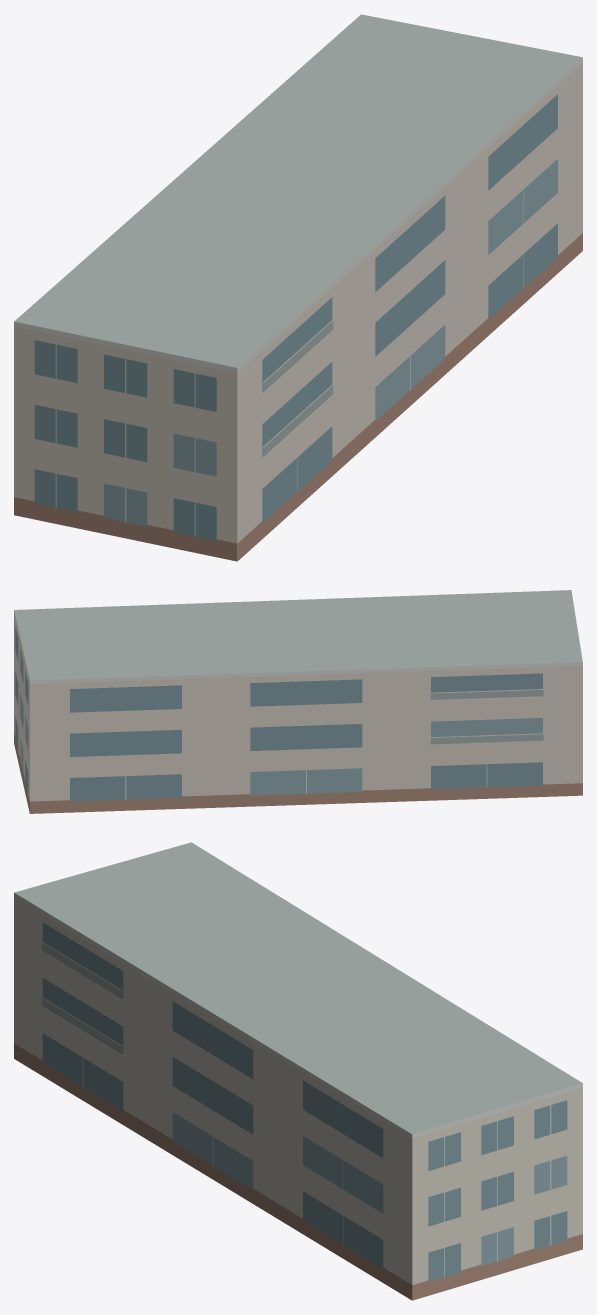
File: survey-upis-32913655.glb
3 renders of one model, top to bottom at view 1: azimuth 30°, elevation 25°; view 2: azimuth 150°, elevation 25°; view 3: azimuth 270°, elevation 25°, orthographic. The views are drawn at different scales.
Visible parts, largest first — view 1: survey-upis-32913655.tmp; view 2: survey-upis-32913655.tmp; view 3: survey-upis-32913655.tmp.
Part boxes in pixels (x1=…): survey-upis-32913655.tmp: x1=14, y1=14, x2=582, y2=561; survey-upis-32913655.tmp: x1=14, y1=590, x2=582, y2=813; survey-upis-32913655.tmp: x1=14, y1=842, x2=582, y2=1300.
Size of the model in its own units: 34.5 by 9.15 by 28.39.
